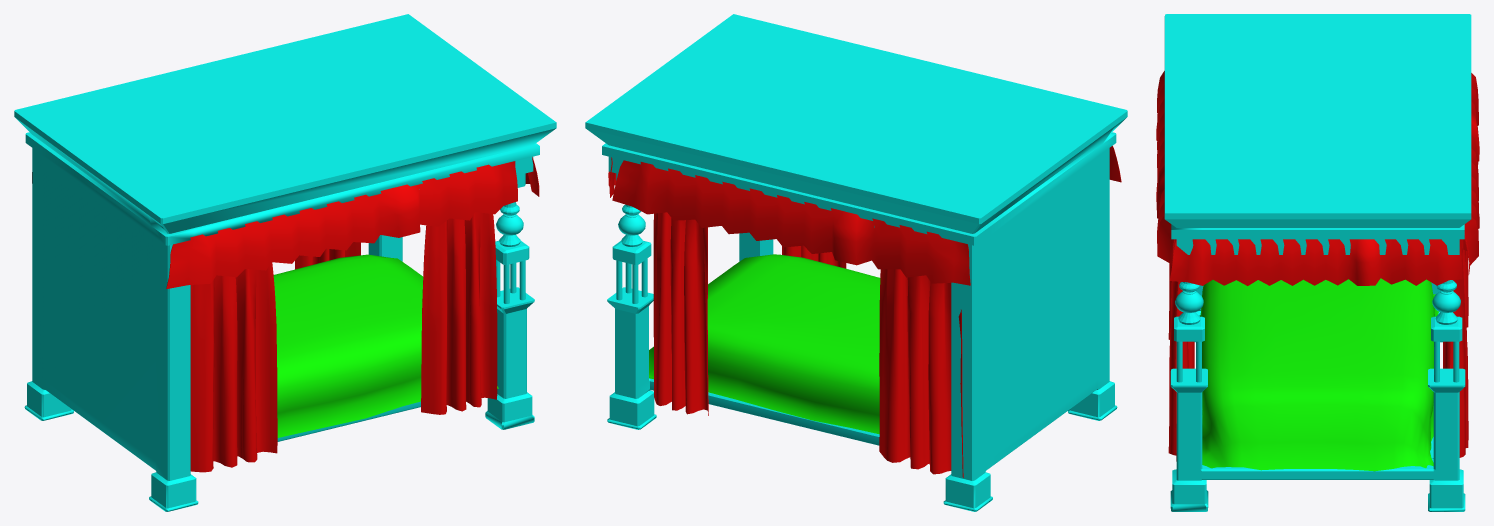
The model's file is Bed.FBX.
3 views of the same model, side by side, from view 1: azimuth 30°, elevation 25°; view 2: azimuth 150°, elevation 25°; view 3: azimuth 270°, elevation 25° (orthographic). The views are drawn at different scales.
Visible parts, largest first — view 1: Box195, Plane036, Plane038; view 2: Box195, Plane036, Plane038; view 3: Box195, Plane038, Plane036.
Part boxes in pixels (x1,y1,x2,y2): Box195: (14,14,556,511); Plane036: (32,157,539,472); Plane038: (273,254,498,437); Box195: (585,14,1127,511); Plane036: (608,146,1121,477); Plane038: (649,254,880,434); Box195: (1164,14,1471,511); Plane038: (1200,278,1438,471); Plane036: (1156,71,1479,461).
Size of the model in its own units: 904 by 619 by 650.
